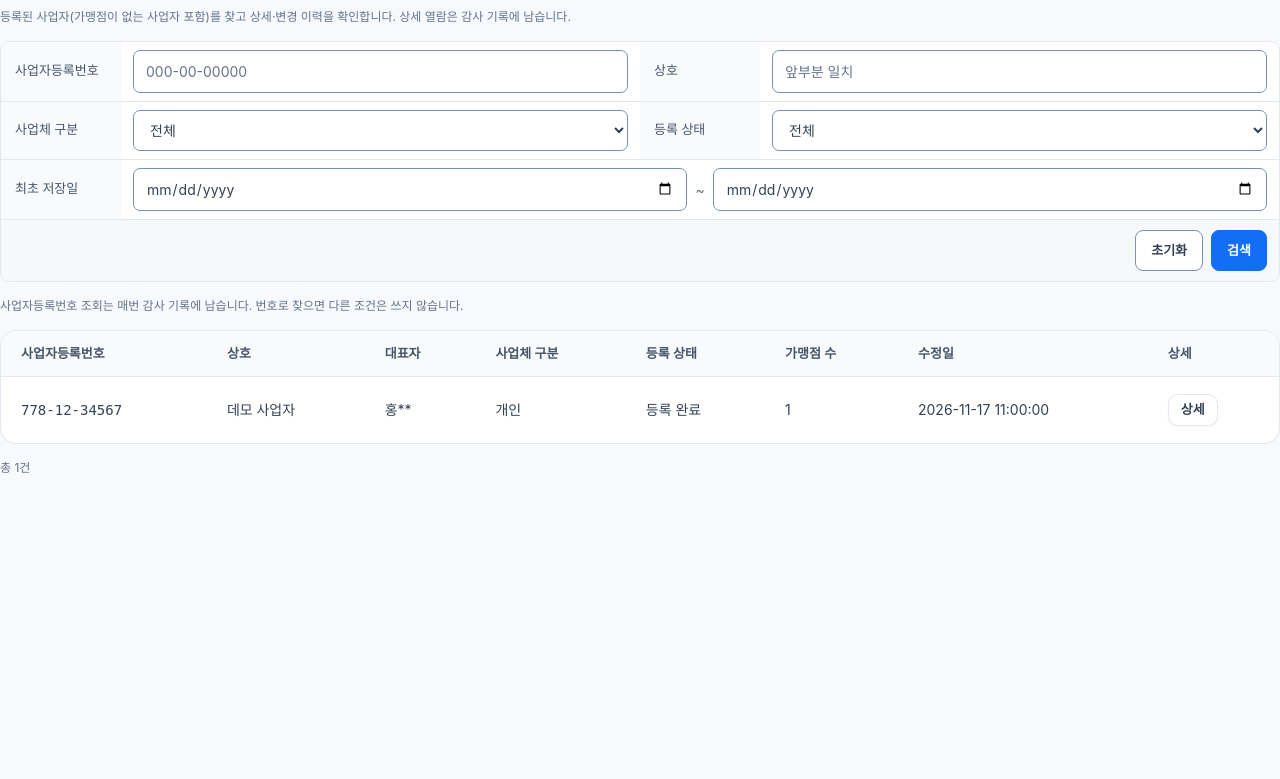
BIZ-NORM-002 M-3 — 사용중지 사업자는 수정할 수 없다(BR-BIZ-311) › 결과 확인이 필요한 이 사업자 편집이 있으면(보낸 뒤 결과 불명) 사용중지로 다시 읽혀도 폼을 유지한다 — 같은 submissionId 재전송 경로 보존
The width and height of the screenshot is (1280, 779).
Later steps or results of the test are not shown.
Click the button with aria-label "데모 사업자 상세" at (1193, 410), box [1168, 394, 1218, 426]
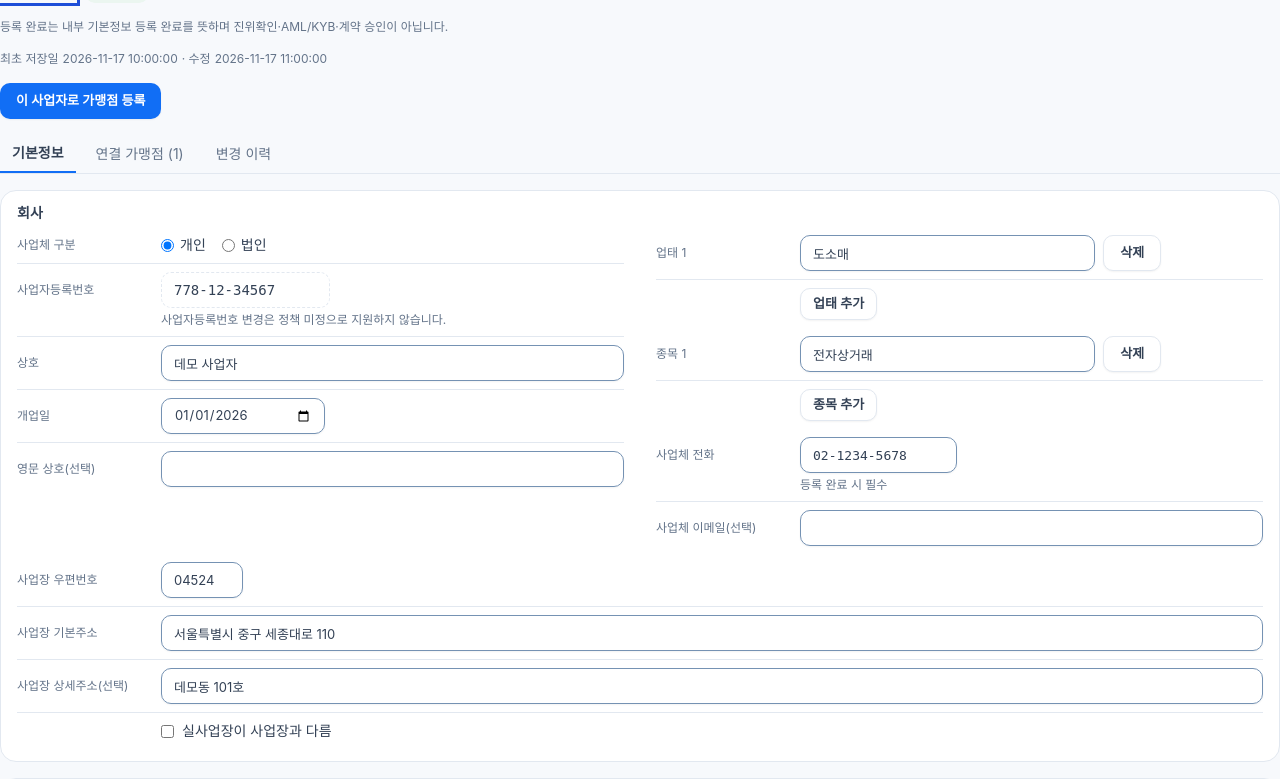
Clear the field labelled "사업체 이메일(선택)" at (1032, 528), box [800, 510, 1263, 546]
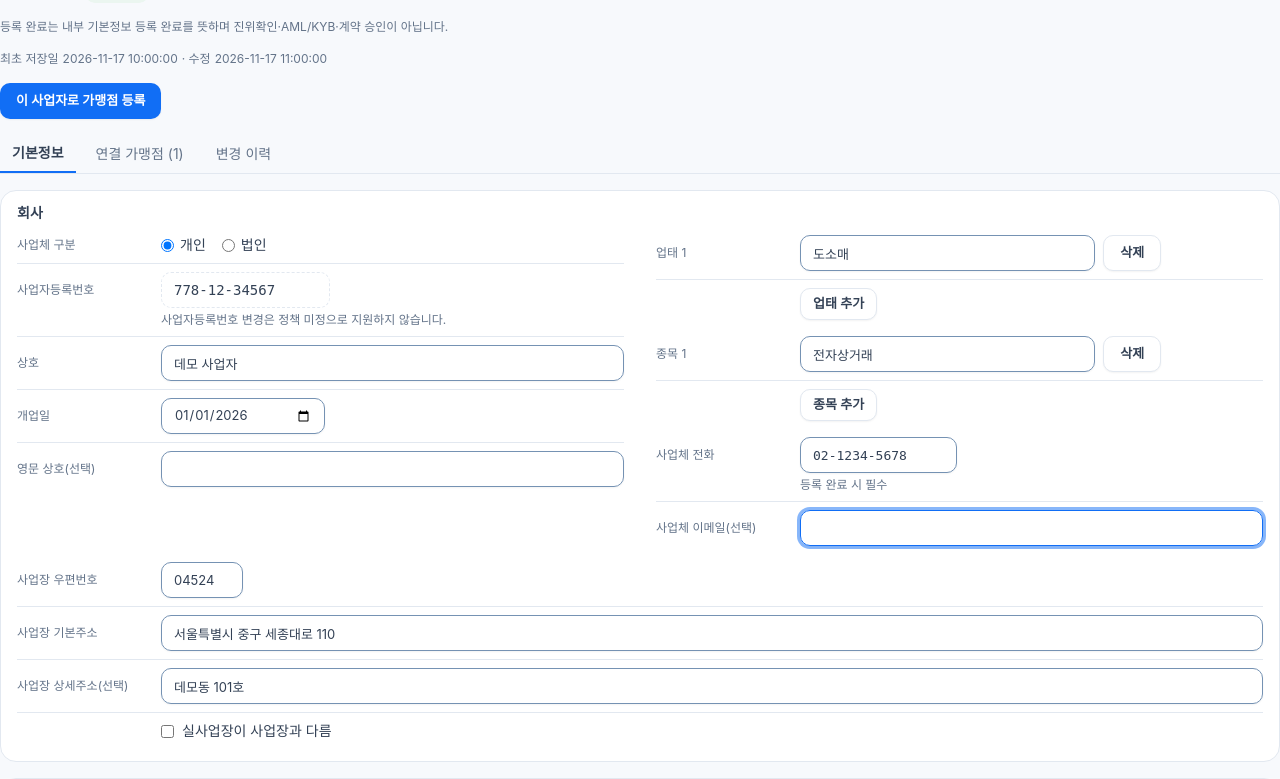
Click the field labelled "사업체 이메일(선택)" at (1032, 528), box [800, 510, 1263, 546]
Type keys "biz.demo@example.test"
(page scrolled)
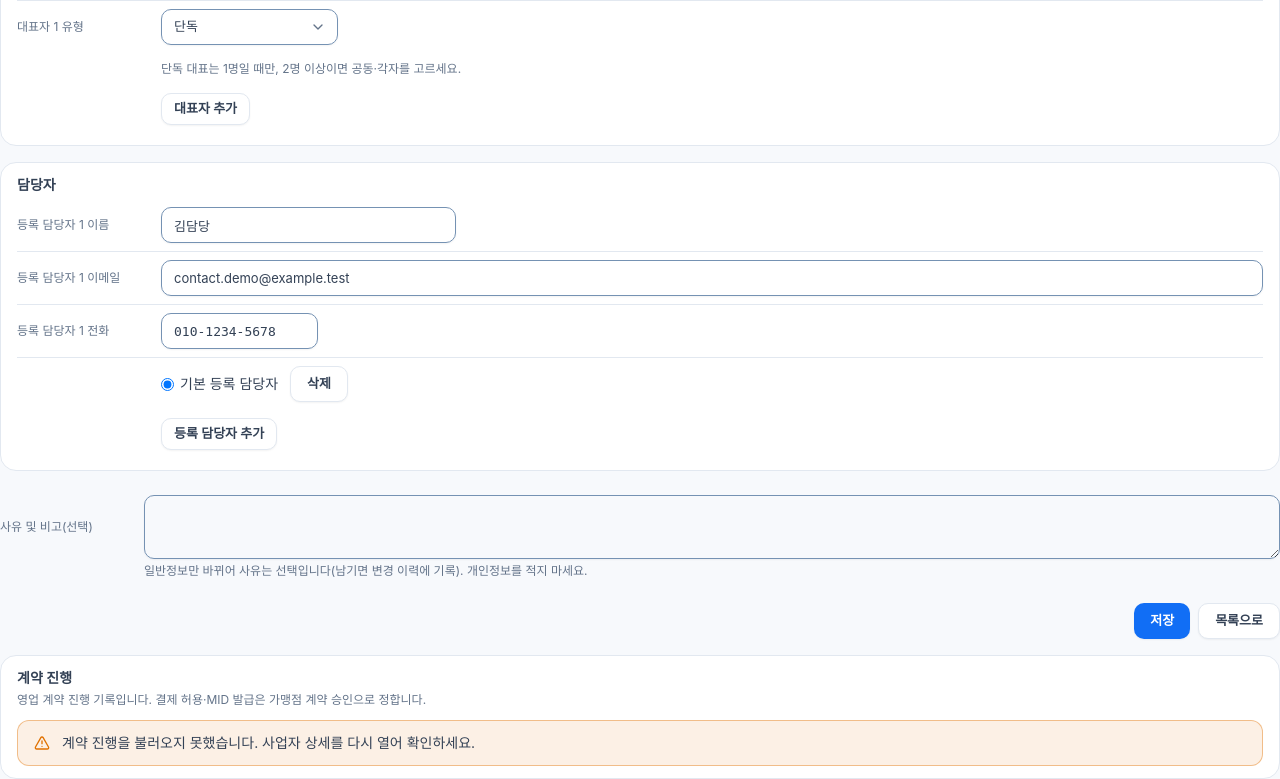
Click the button "저장" at (1162, 621), box [1134, 603, 1190, 639]
(page scrolled)
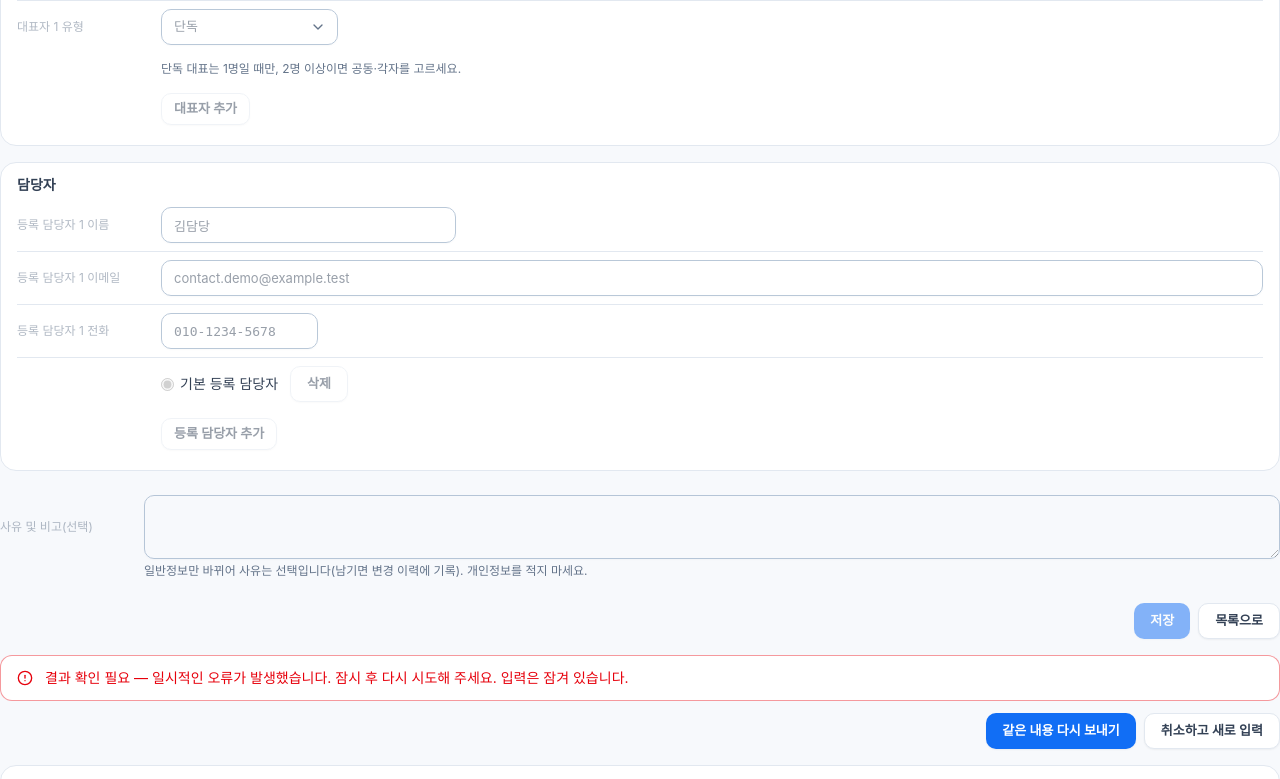
Check: the button "같은 내용 다시 보내기" is shown, box [986, 713, 1136, 749]
